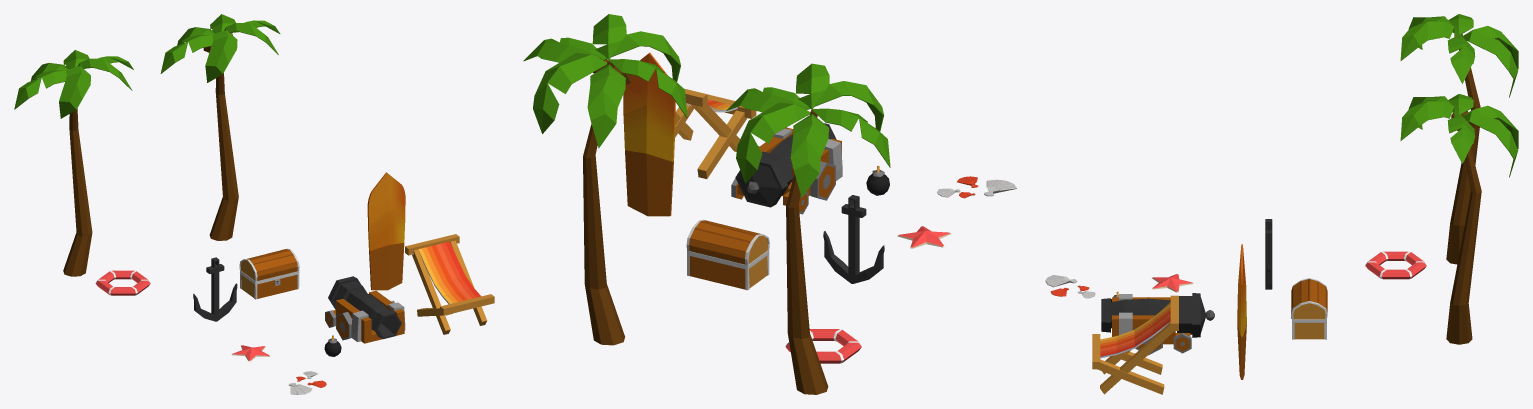
File: Beach.fbx
The picture shows the model from 3 angles, left to right: view 1: azimuth 30°, elevation 25°; view 2: azimuth 150°, elevation 25°; view 3: azimuth 270°, elevation 25°; orthographic projection. The views are drawn at different scales.
Parts seen in each view (by area): view 1: Plane.002, Plane.001, Cube.050, Cube.040, Cube.033, Cylinder.063, Cube.039, Cube.034, Cylinder.048, Cylinder.064; view 2: Plane.002, Plane.001, Cube.040, Cube.033, Cube.050, Cylinder.063, Cube.034, Cylinder.048, Cube.039, Cylinder.064, Cylinder.065, Icosphere; view 3: Plane.002, Plane.001, Cube.050, Cylinder.063, Cube.033, Cylinder.048, Cube.040, Cube.039, Cube.034, Cylinder.064, Cylinder.065.
Boxes of the visible parts, x1,y1,x2,y2 form: Plane.002: (160, 14, 280, 240); Plane.001: (14, 50, 133, 276); Cube.050: (405, 234, 494, 334); Cube.040: (367, 172, 405, 290); Cube.033: (239, 248, 299, 299); Cylinder.063: (328, 276, 401, 338); Cube.039: (333, 290, 405, 343); Cube.034: (193, 257, 237, 321); Cylinder.048: (95, 270, 150, 295); Cylinder.064: (325, 300, 394, 340); Plane.002: (523, 14, 687, 345); Plane.001: (726, 63, 890, 394); Cube.040: (623, 52, 675, 216); Cube.033: (686, 219, 769, 290); Cube.050: (675, 88, 756, 178); Cylinder.063: (735, 123, 836, 207); Cube.034: (823, 195, 884, 283); Cylinder.048: (785, 329, 861, 363); Cube.039: (737, 127, 842, 205); Cylinder.064: (731, 146, 835, 214); Cylinder.065: (897, 226, 951, 248); Icosphere: (866, 166, 889, 195); Plane.002: (1400, 94, 1518, 344); Plane.001: (1400, 14, 1518, 264); Cube.050: (1092, 295, 1178, 394); Cylinder.063: (1101, 293, 1214, 337); Cube.033: (1291, 278, 1327, 339); Cylinder.048: (1365, 251, 1426, 279); Cube.040: (1237, 244, 1246, 379); Cube.039: (1112, 294, 1190, 344); Cube.034: (1265, 219, 1272, 289); Cylinder.064: (1134, 297, 1191, 355); Cylinder.065: (1152, 274, 1193, 292).
Size of the model in its own units: 17.85 by 11.95 by 20.84.
Materials: 1 (1 with a texture image).
